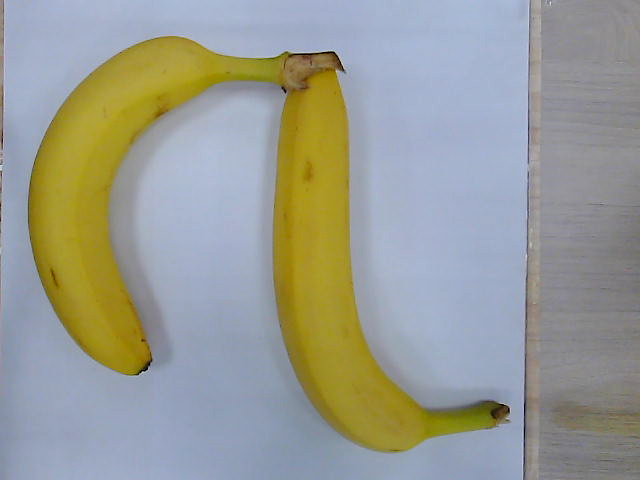fresh_banana: (30, 36, 346, 373), (273, 71, 513, 452)
